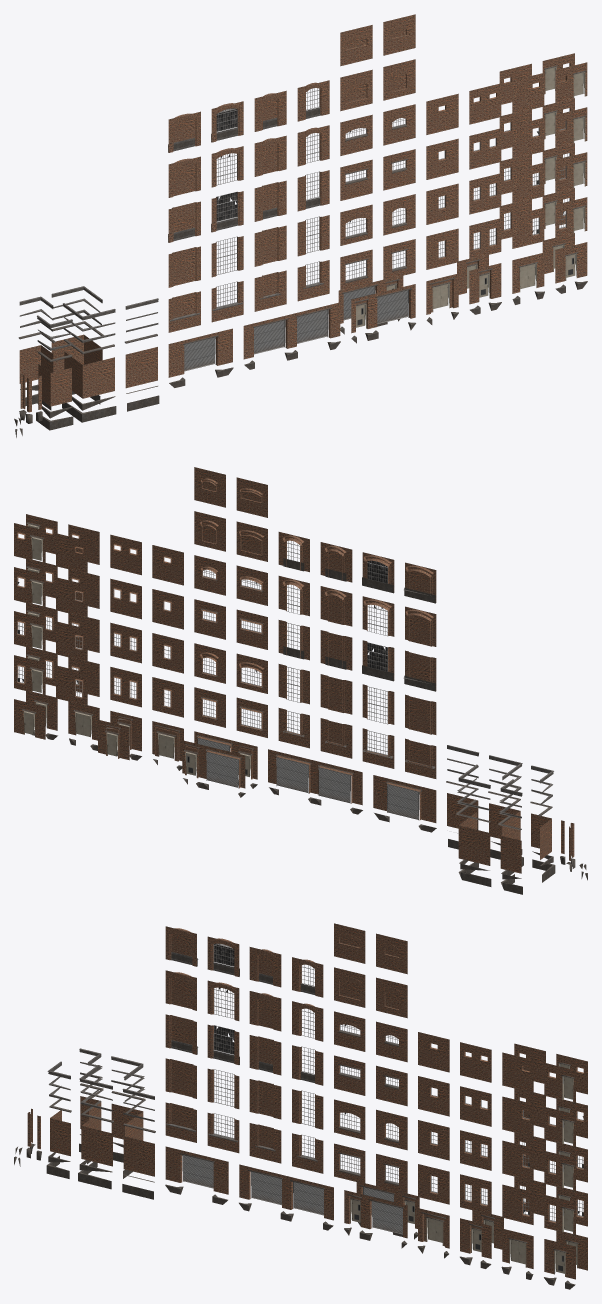
The model's file is modular_factory_facade.gltf.
3 views of the same model, one above another, from view 1: azimuth 30°, elevation 25°; view 2: azimuth 150°, elevation 25°; view 3: azimuth 330°, elevation 25° (orthographic). The views are drawn at different scales.
Parts seen in each view (by area): view 1: object 2, object 1; view 2: object 2, object 1; view 3: object 2, object 1.
Boxes of the visible parts, box(x1,y1,x2,y2) form: object 2: box(14, 14, 587, 426); object 1: box(15, 65, 586, 437); object 2: box(14, 467, 586, 879); object 1: box(17, 522, 587, 894); object 2: box(15, 923, 587, 1289); object 1: box(14, 943, 583, 1252).
Bounding box in the file's own units: 53.3 × 29 × 5.35.
Materials: 6 (6 with a texture image).
